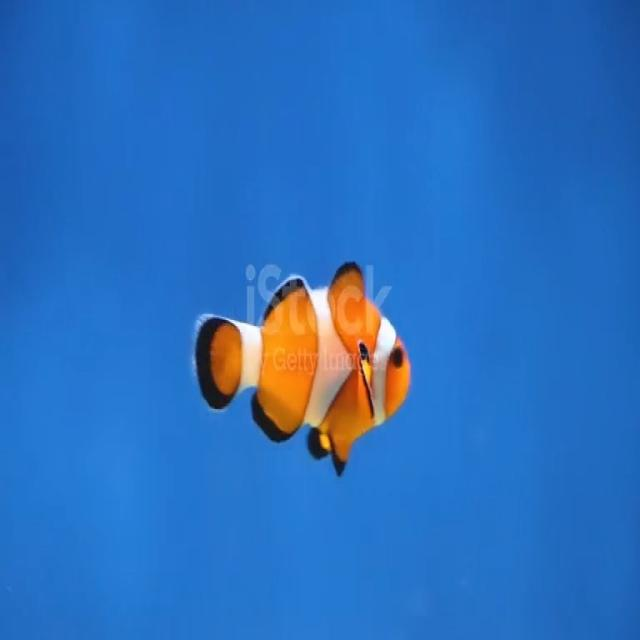fish: (190, 249, 416, 482)
